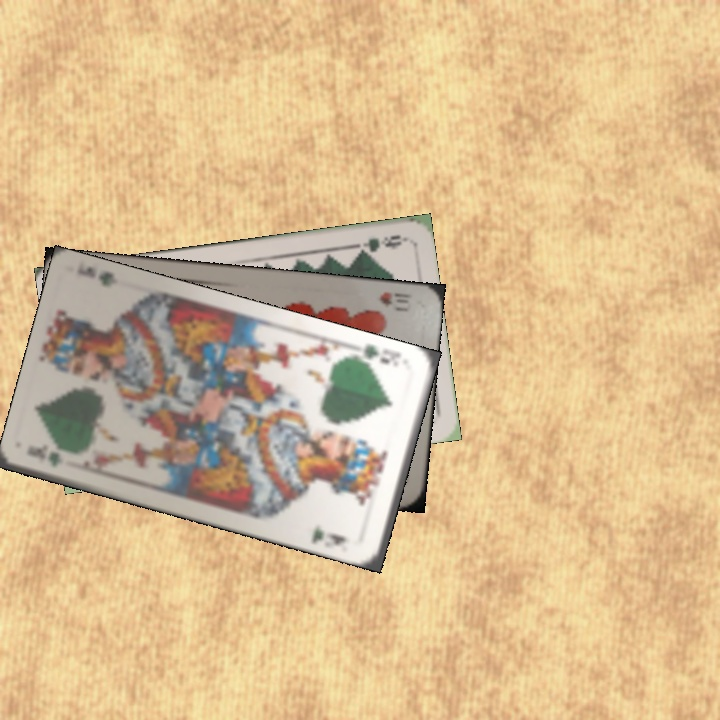G9: (348, 231, 408, 258)
GK: (351, 340, 404, 368), (23, 441, 65, 471)
H10: (375, 287, 414, 315)
